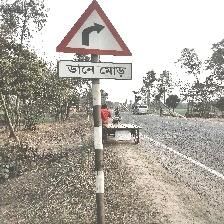Right-turn: (55, 0, 133, 81)
